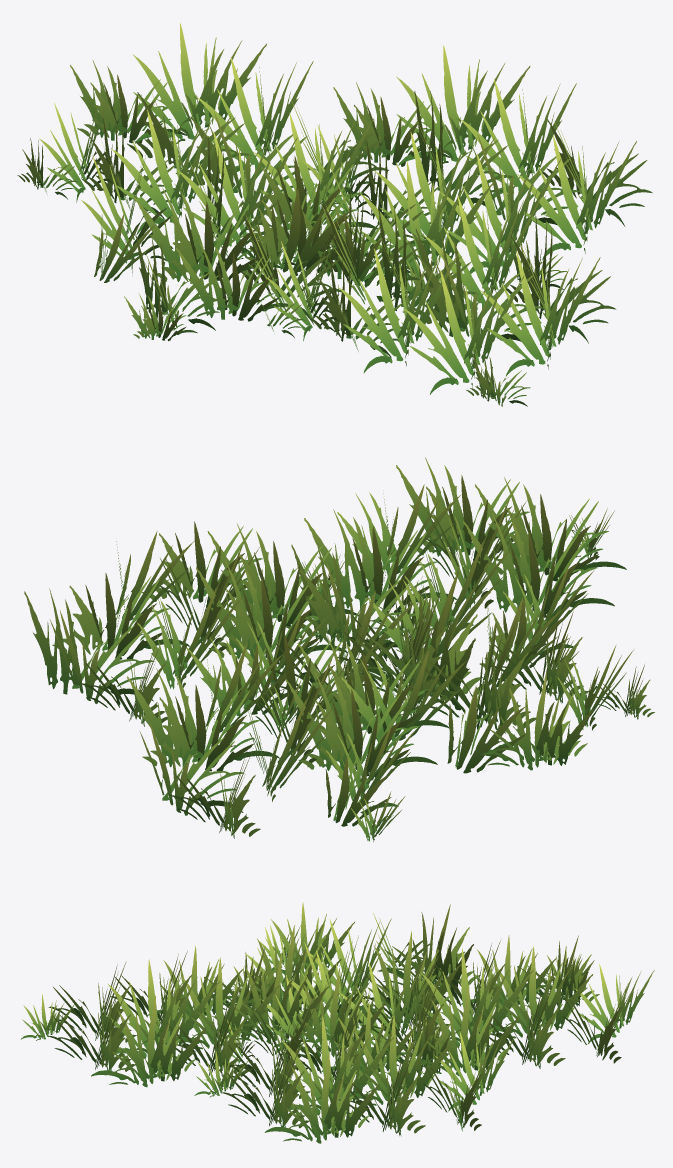
Rendered from anime_grass_2.glb.
The picture shows the model from 3 angles, top to bottom: view 1: azimuth 30°, elevation 25°; view 2: azimuth 150°, elevation 25°; view 3: azimuth 270°, elevation 25°; orthographic projection. The views are drawn at different scales.
Parts seen in each view (by area): view 1: Object_2; view 2: Object_2; view 3: Object_2.
Part boxes in pixels (x1,y1,x2,y2): Object_2: (17, 23, 652, 406); Object_2: (24, 457, 654, 841); Object_2: (21, 902, 654, 1143).
Bounding box in the file's own units: 3.03 × 0.6391 × 3.98.
1 material, 1 textured.
